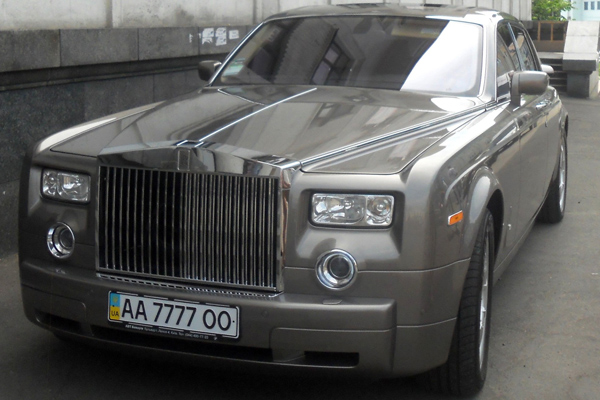car: (17, 6, 569, 389)
plate: (108, 292, 238, 338)
